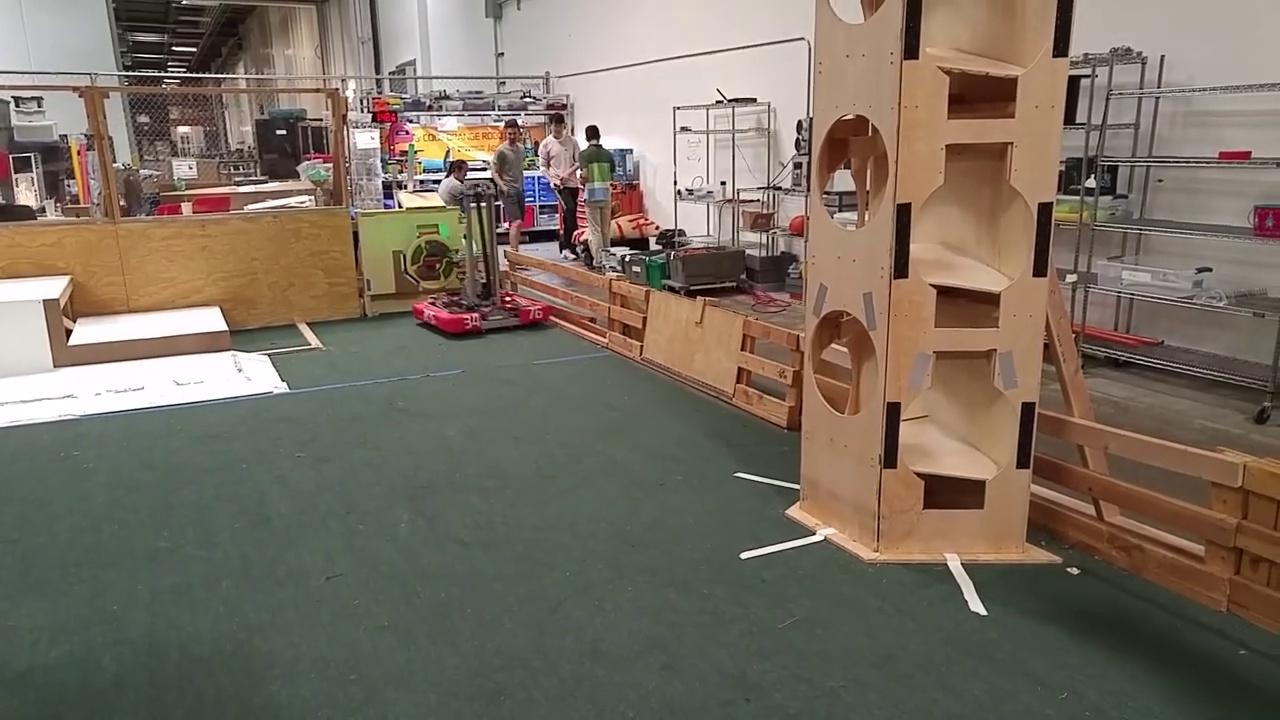robot: (405, 185, 559, 341)
